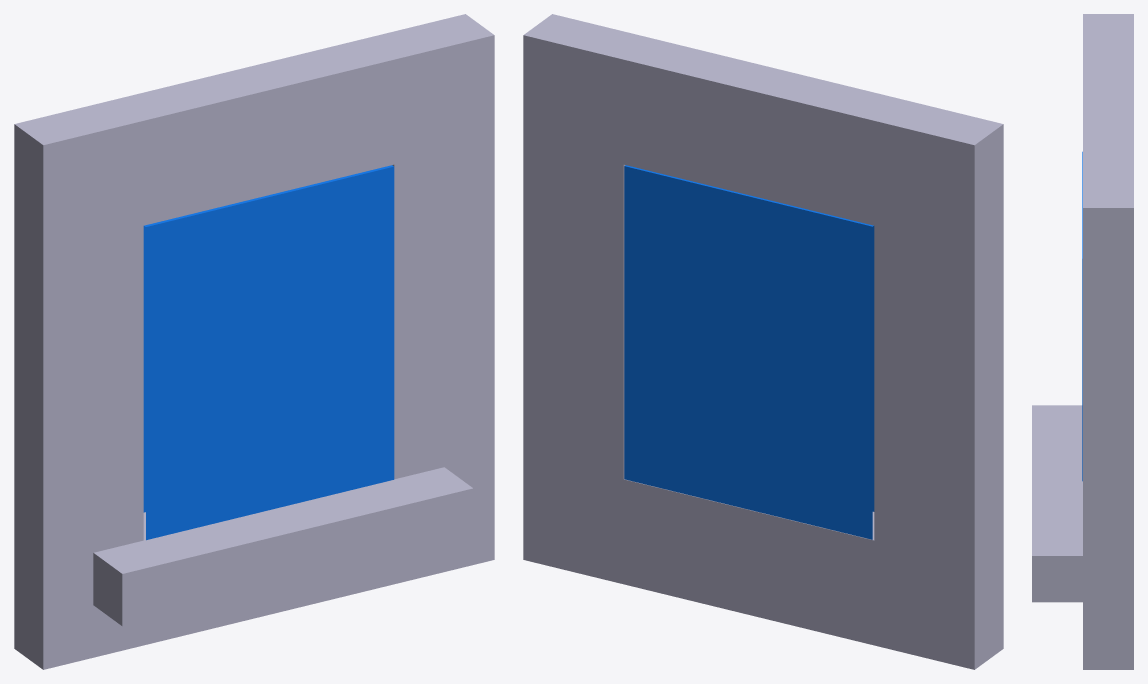
Rendered from Window.obj.
3 views of the same model, side by side, from view 1: azimuth 30°, elevation 25°; view 2: azimuth 150°, elevation 25°; view 3: azimuth 270°, elevation 25° (orthographic). The views are drawn at different scales.
Parts seen in each view (by area): view 1: BuildingPieces.008, BuildingPieces.011, BuildingPieces.009_BuildingPieces.012; view 2: BuildingPieces.008, BuildingPieces.009_BuildingPieces.012, BuildingPieces.011; view 3: BuildingPieces.008, BuildingPieces.009_BuildingPieces.012.
Part boxes in pixels (x1=…): BuildingPieces.008: x1=14, y1=14, x2=494, y2=669; BuildingPieces.011: x1=267, y1=165, x2=394, y2=510; BuildingPieces.009_BuildingPieces.012: x1=143, y1=195, x2=268, y2=540; BuildingPieces.008: x1=523, y1=14, x2=1003, y2=669; BuildingPieces.009_BuildingPieces.012: x1=747, y1=195, x2=874, y2=539; BuildingPieces.011: x1=624, y1=165, x2=749, y2=508; BuildingPieces.008: x1=1032, y1=14, x2=1133, y2=669; BuildingPieces.009_BuildingPieces.012: x1=1082, y1=151, x2=1082, y2=481.
Size of the model in its own units: 0.9 by 1 by 0.2.
